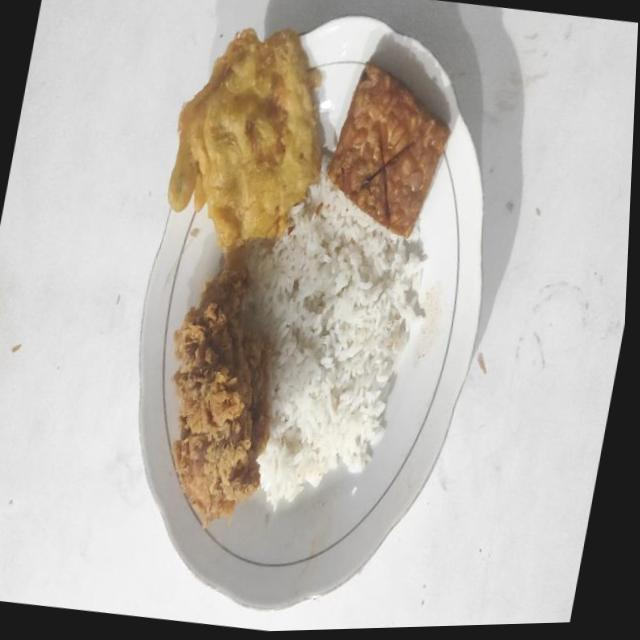nasi_putih: (245, 155, 427, 510)
tempe_goreng: (328, 63, 450, 238)
